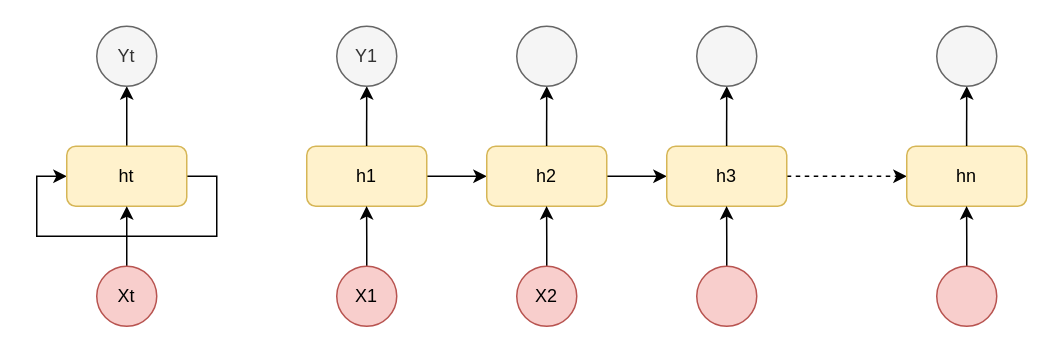
Image size: 1053x353. Some labels were removed from this diagram. The centre of each missing label's shape, as x and y in pixels:
X3: [726,295]
Xn: [966,295]
Y2: [546,55]
Y3: [726,55]
Yn: [966,55]
